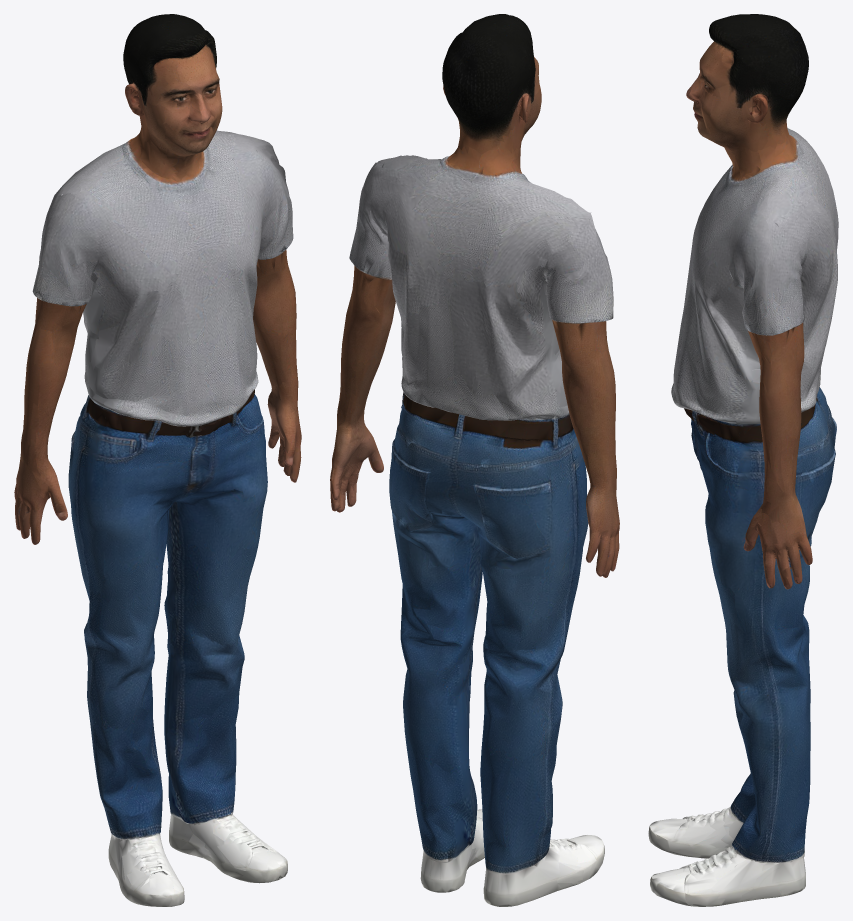
The model's file is player.glb.
3 views of the same model, side by side, from view 1: azimuth 30°, elevation 25°; view 2: azimuth 150°, elevation 25°; view 3: azimuth 270°, elevation 25° (orthographic).
Parts seen in each view (by area): view 1: person; view 2: person; view 3: person.
Boxes of the visible parts, bbox=[...] form: person: bbox=[14, 14, 301, 906]; person: bbox=[330, 14, 619, 906]; person: bbox=[648, 14, 838, 906].
Size of what is drawn, in the model's own units: 0.5993 by 1.75 by 0.3538.
Materials: 1 (1 with a texture image).
